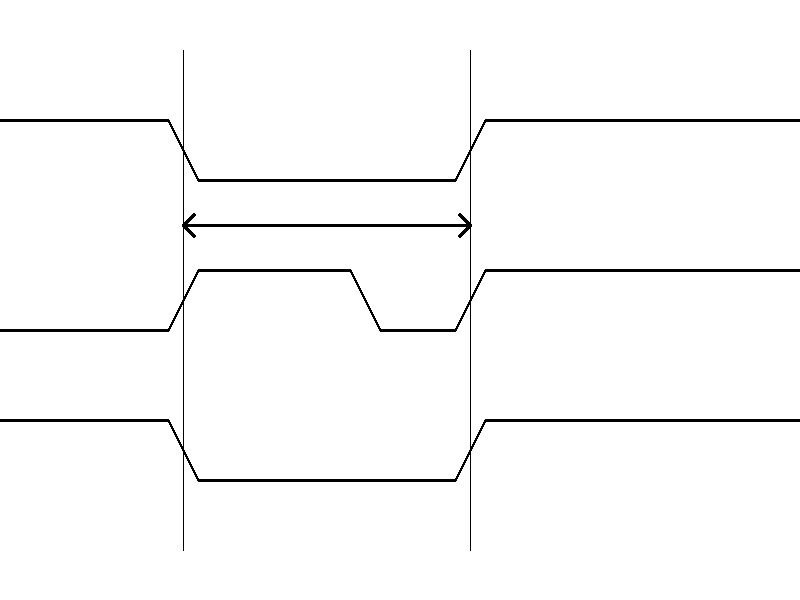double_arrow: (183, 210, 470, 240)
